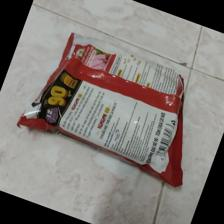Kokomi: (16, 29, 193, 210)
